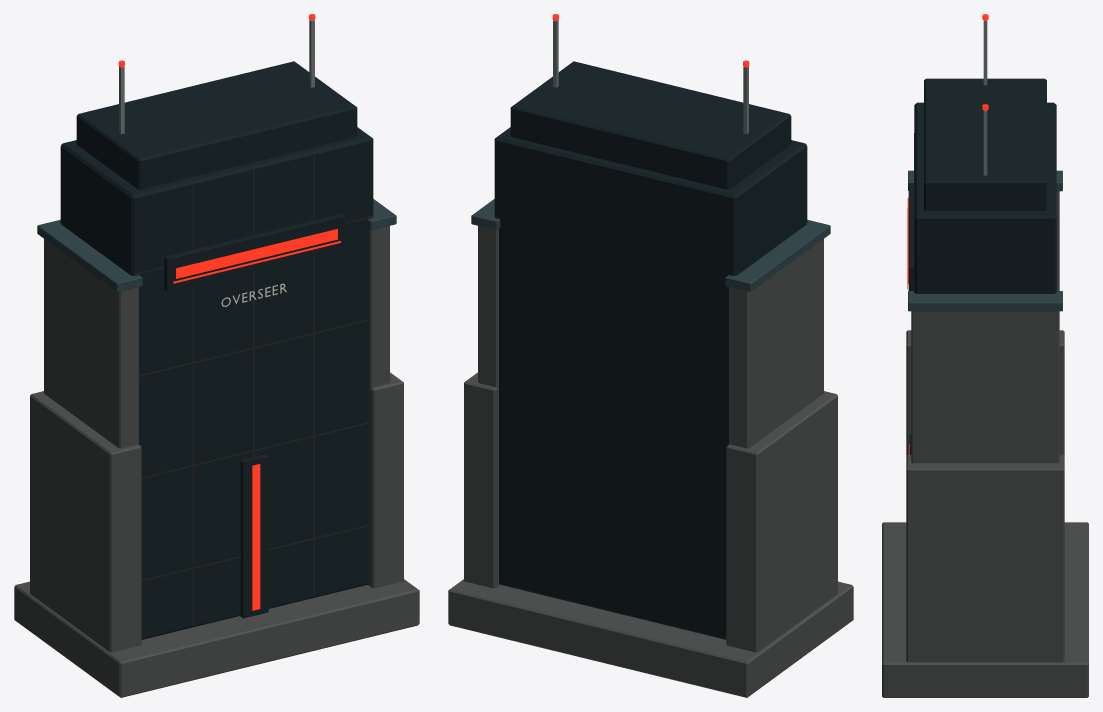
File: overseer-housing.glb
3 views of the same model, side by side, from view 1: azimuth 30°, elevation 25°; view 2: azimuth 150°, elevation 25°; view 3: azimuth 270°, elevation 25° (orthographic). The views are drawn at different scales.
Parts seen in each view (by area): view 1: overseer-housing__overseer-housing__indigo, overseer-housing__overseer-housing__concrete-dark, overseer-housing__overseer-housing__rubber, overseer-housing__overseer-housing__soot, overseer-housing__overseer-housing__danger-red, overseer-housing__overseer-housing__steel, overseer-housing__overseer-housing__hardware; view 2: overseer-housing__overseer-housing__indigo, overseer-housing__overseer-housing__concrete-dark, overseer-housing__overseer-housing__steel, overseer-housing__overseer-housing__hardware; view 3: overseer-housing__overseer-housing__concrete-dark, overseer-housing__overseer-housing__indigo, overseer-housing__overseer-housing__steel, overseer-housing__overseer-housing__rubber, overseer-housing__overseer-housing__hardware.
Part boxes in pixels (<box>): overseer-housing__overseer-housing__indigo: <box>60,61,373,639</box>; overseer-housing__overseer-housing__concrete-dark: <box>14,226,419,697</box>; overseer-housing__overseer-housing__rubber: <box>164,213,345,618</box>; overseer-housing__overseer-housing__soot: <box>134,155,373,625</box>; overseer-housing__overseer-housing__danger-red: <box>118,14,340,610</box>; overseer-housing__overseer-housing__steel: <box>37,199,396,292</box>; overseer-housing__overseer-housing__hardware: <box>119,20,314,134</box>; overseer-housing__overseer-housing__indigo: <box>494,61,807,639</box>; overseer-housing__overseer-housing__concrete-dark: <box>448,226,853,697</box>; overseer-housing__overseer-housing__steel: <box>471,199,830,292</box>; overseer-housing__overseer-housing__hardware: <box>553,20,748,134</box>; overseer-housing__overseer-housing__concrete-dark: <box>882,191,1088,697</box>; overseer-housing__overseer-housing__indigo: <box>914,78,1056,293</box>; overseer-housing__overseer-housing__steel: <box>908,170,1062,311</box>; overseer-housing__overseer-housing__rubber: <box>908,183,914,454</box>; overseer-housing__overseer-housing__hardware: <box>983,20,987,175</box>.
Bounding box in the file's own units: 10.4 × 19.37 × 6.4.
